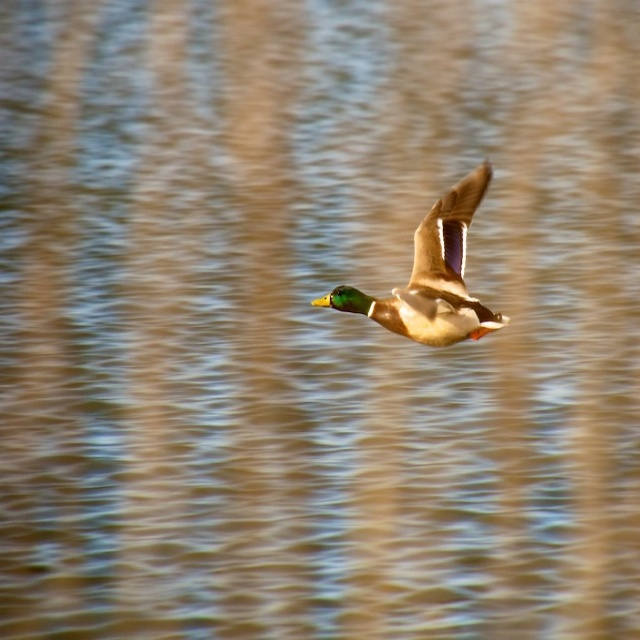Duck: (311, 170, 505, 355)
